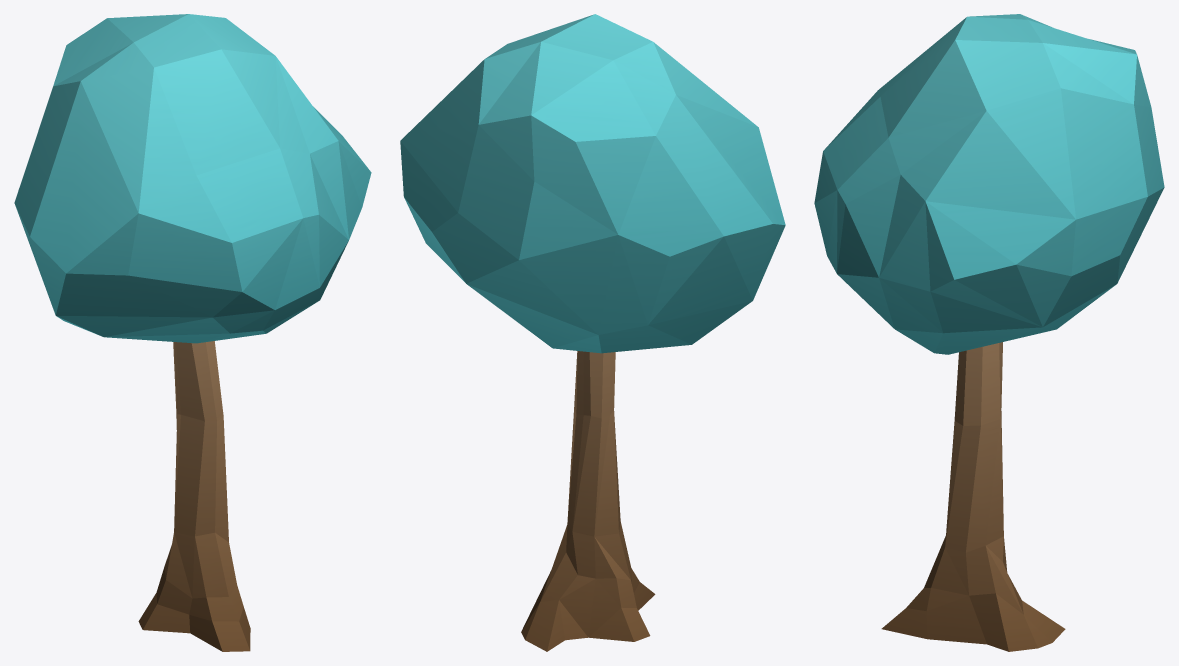
Rendered from tree_beech_blue.fbx.
The picture shows the model from 3 angles, left to right: view 1: azimuth 30°, elevation 25°; view 2: azimuth 150°, elevation 25°; view 3: azimuth 270°, elevation 25°; orthographic projection. The views are drawn at different scales.
Parts seen in each view (by area): view 1: tree_beech_blue; view 2: tree_beech_blue; view 3: tree_beech_blue.
Boxes of the visible parts, <box> form: tree_beech_blue: <box>14,14,371,651</box>; tree_beech_blue: <box>400,14,785,651</box>; tree_beech_blue: <box>814,14,1164,651</box>.
Size of the model in its own units: 4.42 by 7.33 by 3.91.
1 material, 1 textured.
